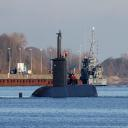submarine: (20, 31, 100, 99)
